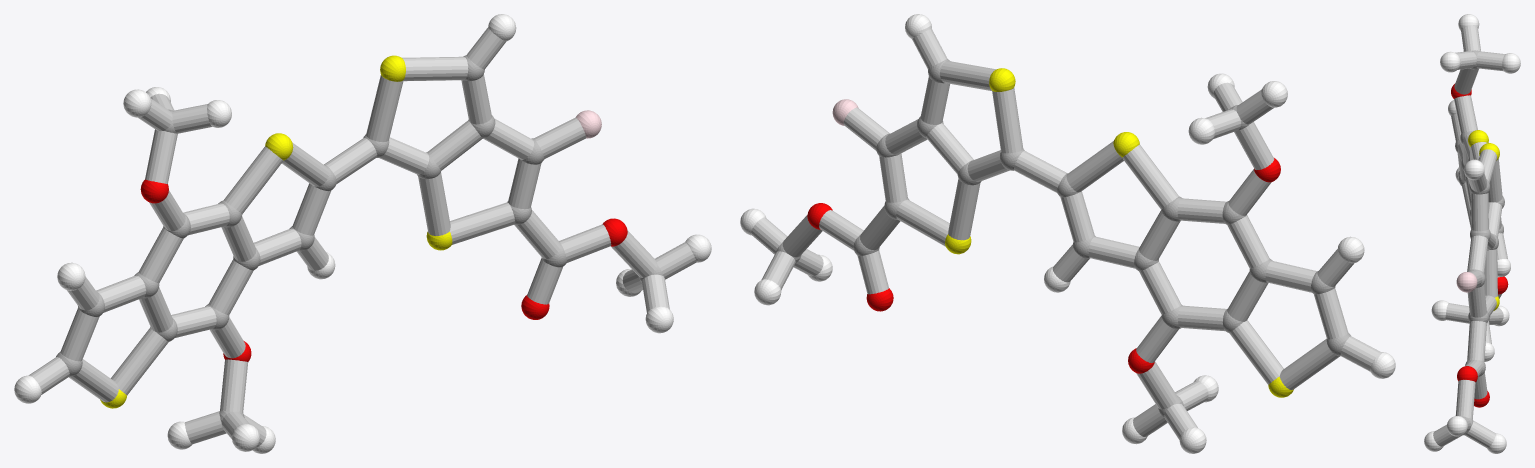
The model's file is Dimethoxy_Benzodithiophene_Phi_15_Theta_170_Methylcarbonyl_3_Fluoro_Thienothiophene.glb.
The picture shows the model from 3 angles, left to right: view 1: azimuth 30°, elevation 25°; view 2: azimuth 150°, elevation 25°; view 3: azimuth 270°, elevation 25°; orthographic projection. The views are drawn at different scales.
Parts seen in each view (by area): view 1: grp15205, grp8689, grp1, grp7241, grp13395; view 2: grp15205, grp8689, grp1, grp7241, grp13395; view 3: grp15205, grp8689, grp1, grp13395, grp7241, grp14843.
Boxes of the visible parts, bbox=[...] form: grp15205: bbox=[28, 27, 696, 447]; grp8689: bbox=[14, 14, 711, 453]; grp1: bbox=[56, 55, 663, 422]; grp7241: bbox=[100, 55, 452, 408]; grp13395: bbox=[140, 179, 627, 361]; grp15205: bbox=[751, 29, 1380, 439]; grp8689: bbox=[740, 14, 1395, 453]; grp1: bbox=[776, 59, 1350, 417]; grp7241: bbox=[945, 68, 1293, 397]; grp13395: bbox=[807, 158, 1280, 373]; grp15205: bbox=[1433, 26, 1507, 448]; grp8689: bbox=[1424, 14, 1520, 453]; grp1: bbox=[1455, 50, 1504, 435]; grp13395: bbox=[1451, 84, 1508, 407]; grp7241: bbox=[1468, 130, 1499, 310]; grp14843: bbox=[1456, 272, 1477, 292].
Size of the model in its own units: 16.85 by 9.43 by 2.78.
